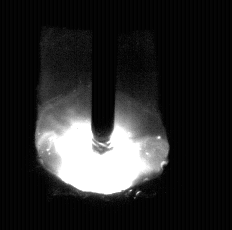arame: (92, 0, 117, 154)
poca: (34, 0, 167, 230)
